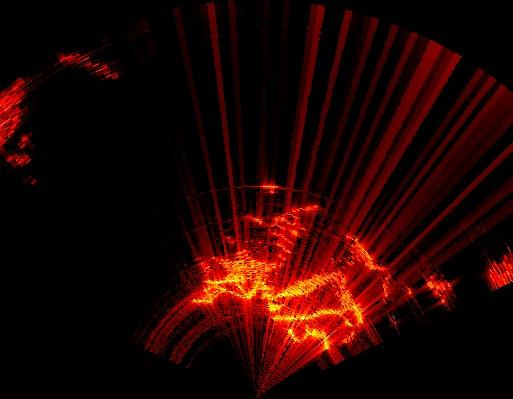shipwreck: (193, 206, 363, 342), (347, 236, 390, 293), (287, 327, 333, 354), (427, 277, 452, 304)
